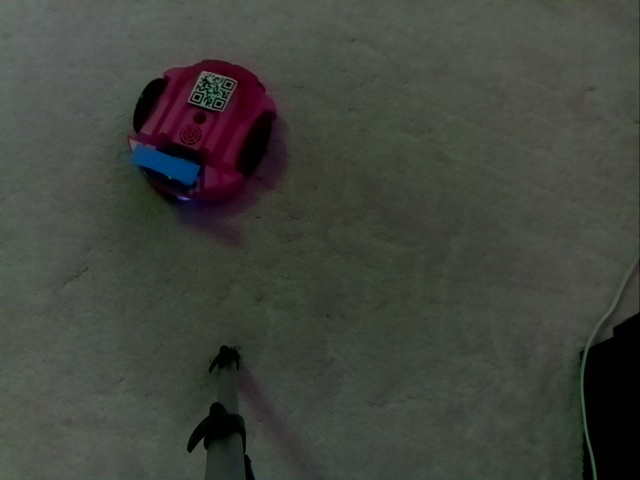chassis: (129, 52, 280, 212)
qr: (185, 66, 241, 118)
